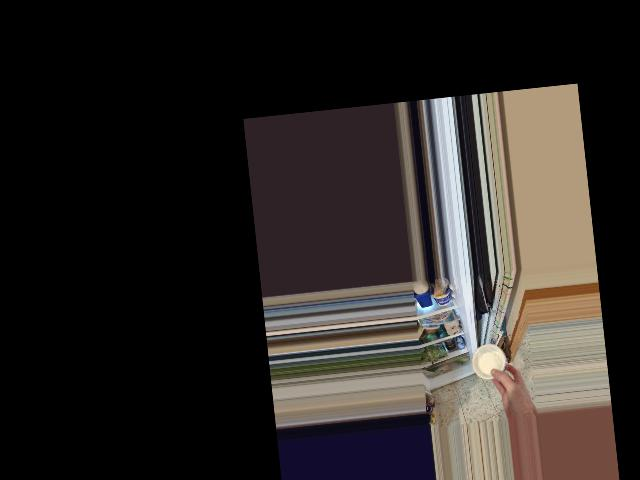cotage: (473, 343, 511, 381)
